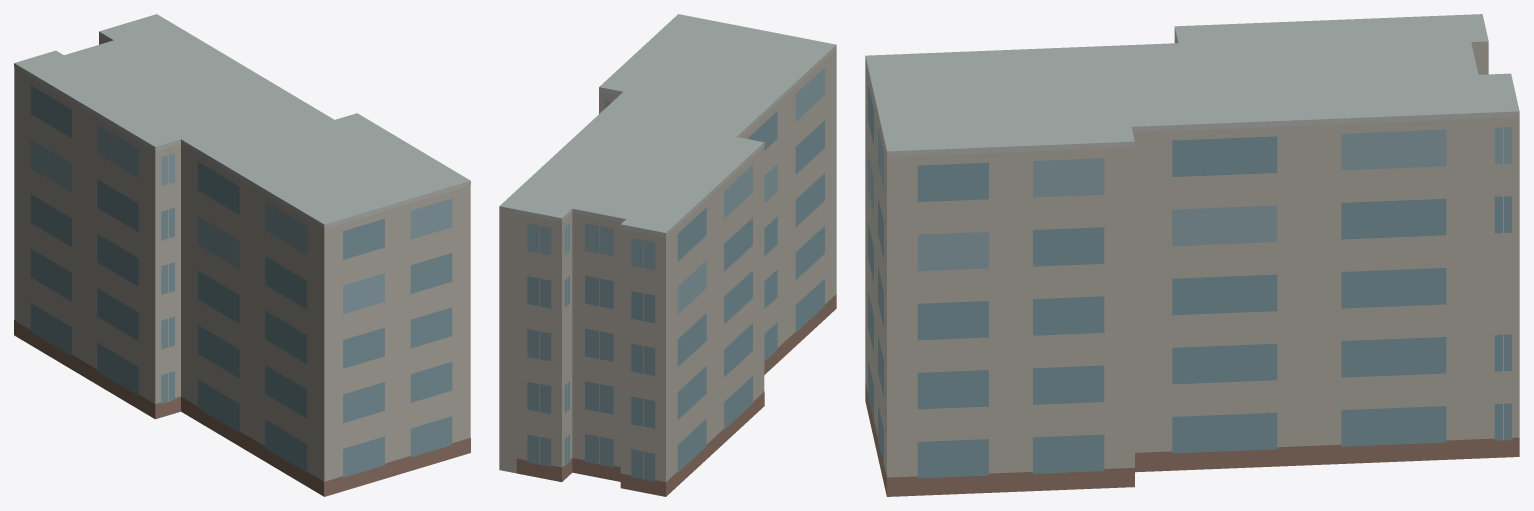
The model's file is survey-upis-32972793.glb.
3 views of the same model, side by side, from view 1: azimuth 30°, elevation 25°; view 2: azimuth 150°, elevation 25°; view 3: azimuth 270°, elevation 25° (orthographic). The views are drawn at different scales.
Parts seen in each view (by area): view 1: survey-upis-32972793.tmp; view 2: survey-upis-32972793.tmp; view 3: survey-upis-32972793.tmp.
Boxes of the visible parts, x1,y1,x2,y2 form: survey-upis-32972793.tmp: (14, 14, 470, 496); survey-upis-32972793.tmp: (499, 14, 836, 496); survey-upis-32972793.tmp: (865, 14, 1519, 496).
Size of the model in its own units: 12.98 by 15.2 by 26.1.
